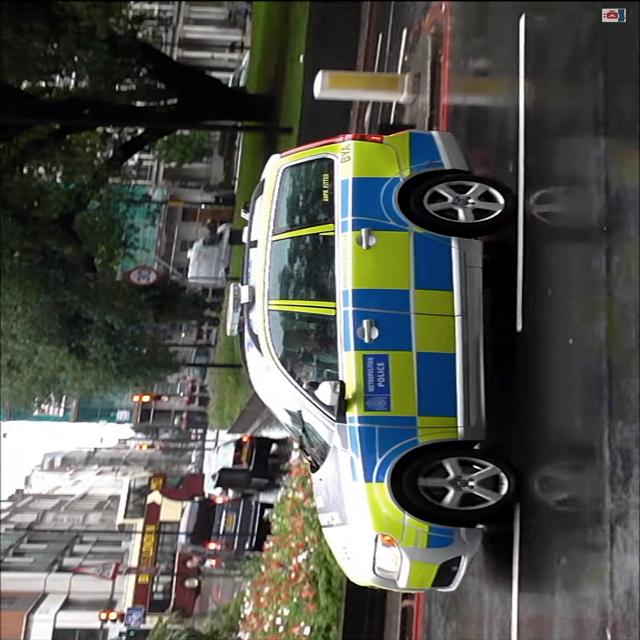emergency-vehicles: (220, 98, 534, 606)
